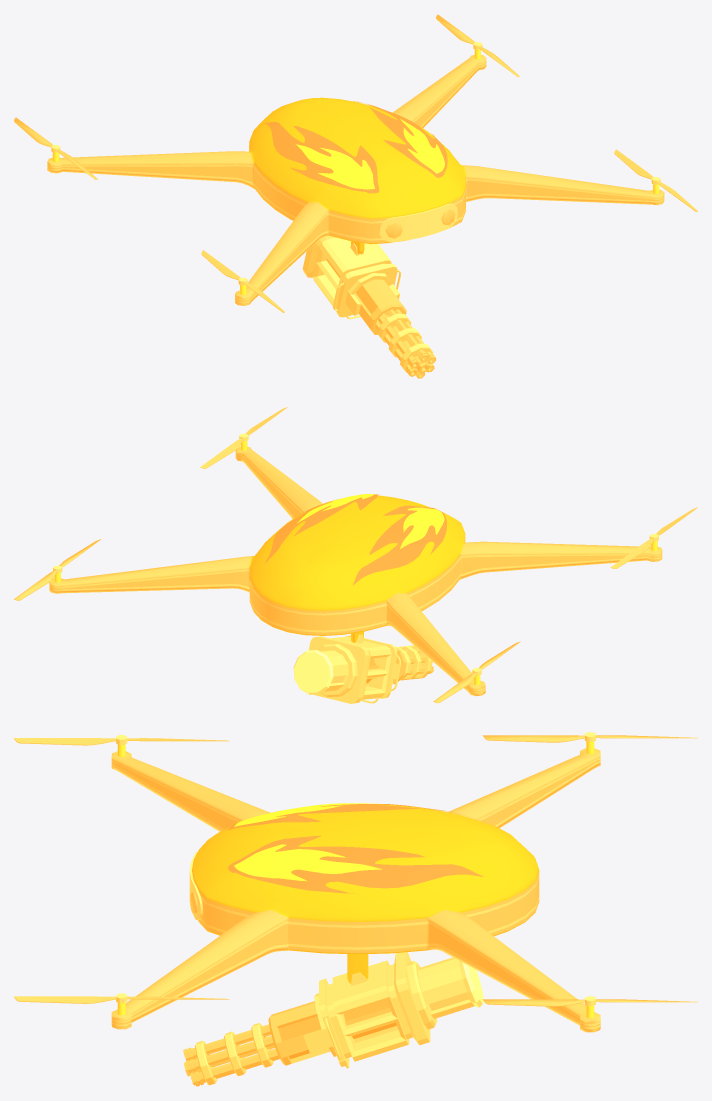
The model's file is drone.glb.
The picture shows the model from 3 angles, top to bottom: view 1: azimuth 30°, elevation 25°; view 2: azimuth 150°, elevation 25°; view 3: azimuth 270°, elevation 25°; orthographic projection. The views are drawn at different scales.
Parts seen in each view (by area): view 1: Lowpoly army drone, gun, rotor.003, rotor.002, rotor.001, rotor.004; view 2: Lowpoly army drone, gun, rotor.002, rotor.001, rotor.003, rotor.004; view 3: Lowpoly army drone, gun, rotor.001, rotor.002, rotor.004, rotor.003.
Part boxes in pixels (x1,y1,x2,y2): Lowpoly army drone: (47,49,664,305); gun: (302,235,436,378); rotor.003: (201,250,284,312); rotor.002: (436,14,519,76); rotor.001: (614,149,697,211); rotor.004: (14,117,97,179); Lowpoly army drone: (49,441,662,696); gun: (293,634,433,703); rotor.002: (14,539,101,600); rotor.001: (200,407,287,468); rotor.003: (610,507,697,568); rotor.004: (433,641,520,703); Lowpoly army drone: (111,741,600,1032); gun: (183,952,483,1086); rotor.001: (14,993,229,1003); rotor.002: (482,996,697,1006); rotor.004: (482,732,697,742); rotor.003: (14,735,228,745).
Bounding box in the file's own units: 16.73 × 7.4 × 17.73.
1 material, 1 textured.
